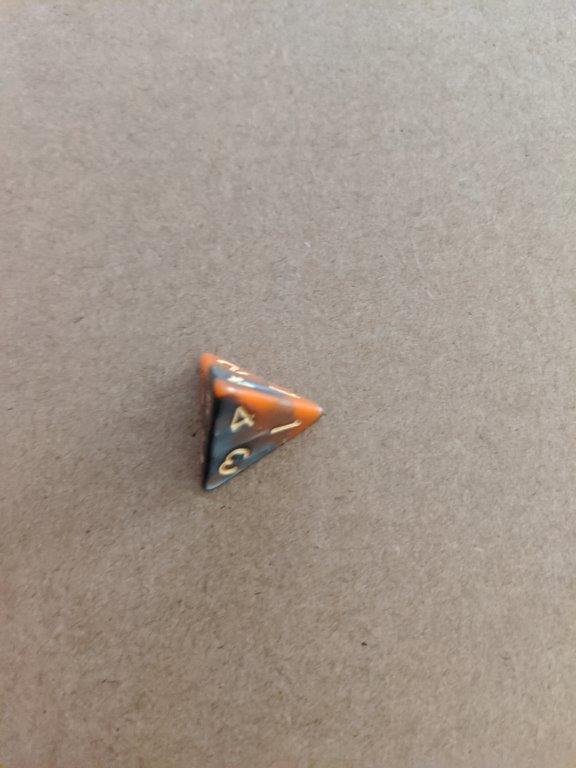d4-4: (197, 348, 326, 495)
